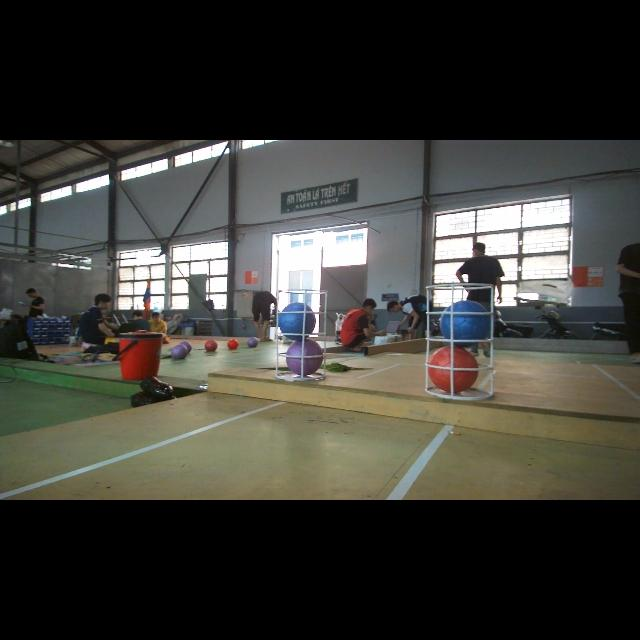B: (441, 300, 491, 346), (278, 303, 318, 341)
R: (428, 344, 478, 394)
